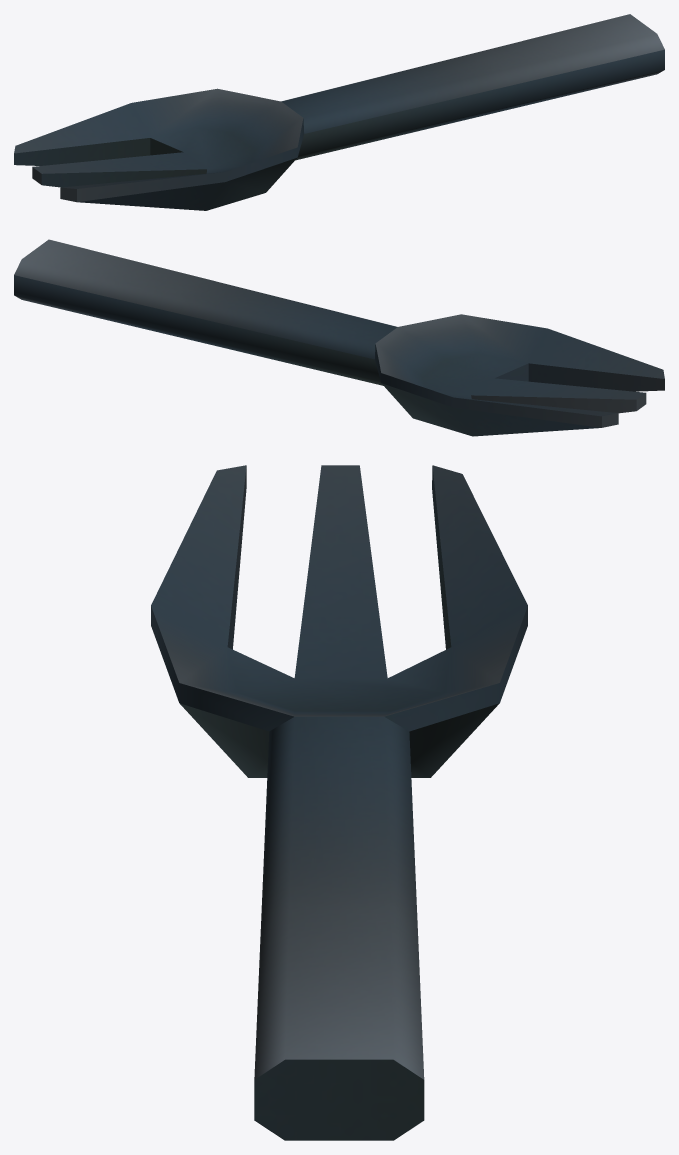
The model's file is fork_cuttlery_metal.fbx.
3 views of the same model, one above another, from view 1: azimuth 30°, elevation 25°; view 2: azimuth 150°, elevation 25°; view 3: azimuth 270°, elevation 25° (orthographic). The views are drawn at different scales.
Visible parts, largest first — view 1: fork_cuttlery_metal; view 2: fork_cuttlery_metal; view 3: fork_cuttlery_metal.
Part boxes in pixels (bbox=[...]): fork_cuttlery_metal: bbox=[14, 14, 664, 210]; fork_cuttlery_metal: bbox=[14, 239, 664, 436]; fork_cuttlery_metal: bbox=[151, 465, 527, 1140].
Bounding box in the file's own units: 35.39 × 3.68 × 9.53.
